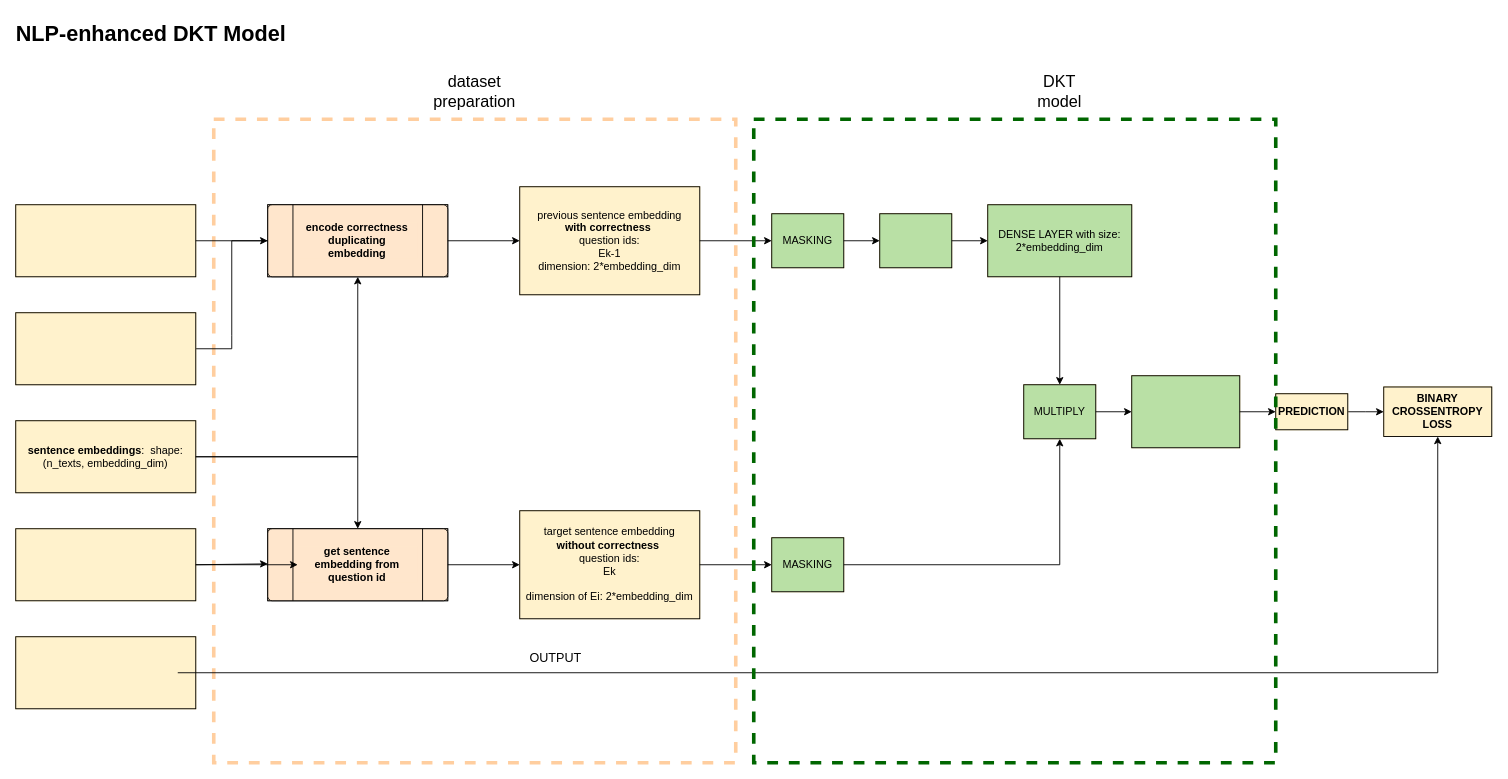
Image size: 1508x779. Some labels were removed from this diagram. Each missing label, with the centre of its shape:
DENSE LAYER with size: 1: point 1185,411
LSTM: point 915,240
previous answers correctness: rk-1: point 105,348
previous question id: qk-1: point 105,240
target answer correctness: rk-1: point 105,672
target question id: qk: point 105,564
